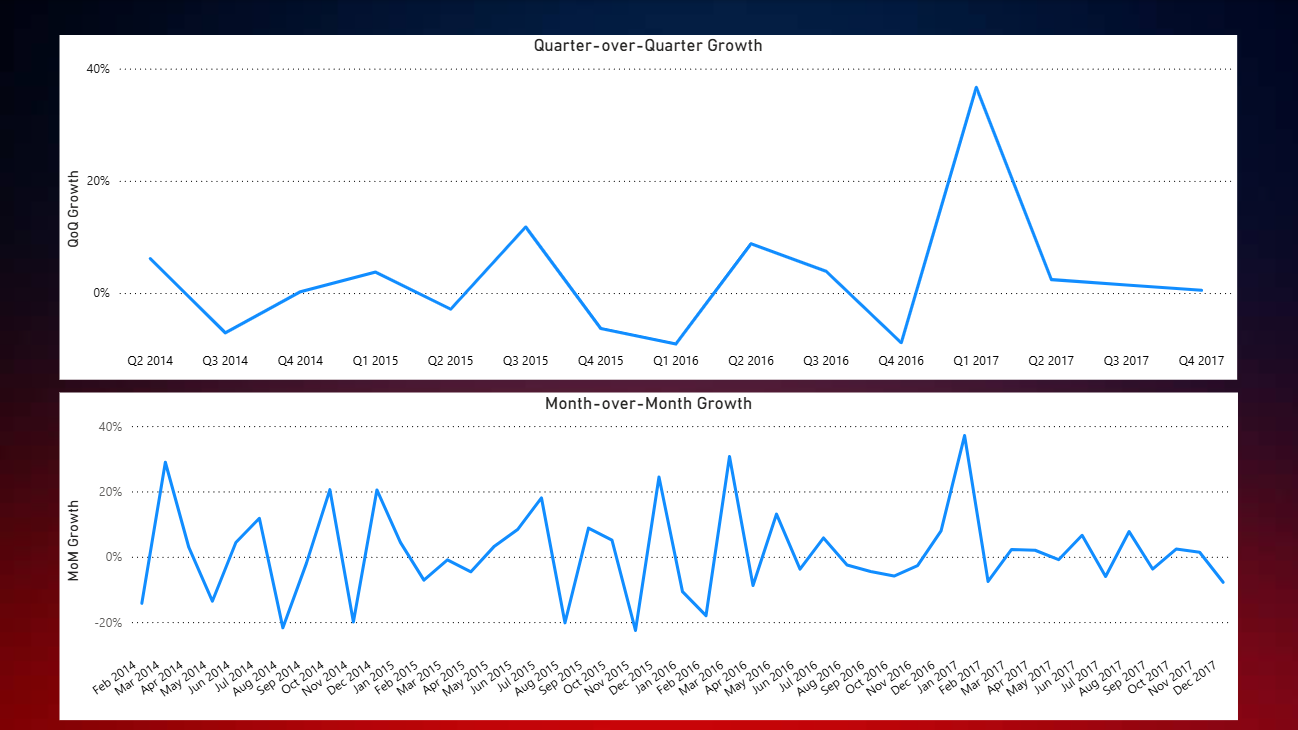

This screenshot's page, from the dashboard's own definition file:
{"tool":"powerbi","page":{"name":"MoM and QoQ Growth","canvas":[1280,720],"ordinal":3},"visuals":[{"type":"lineChart","title":"Month-over-Month Growth","fields":{"Category":["CalendarMaster.Month-Year"],"Y":["FactSales.MoM Growth"]},"box":[61.7,385,1156.7,321.7],"z":0},{"type":"lineChart","title":"Quarter-over-Quarter Growth","fields":{"Category":["CalendarMaster.Quarter-Year"],"Y":["FactSales.QoQ Growth"]},"box":[61.4,34.3,1155.7,338.6],"z":1000}]}

Visuals, with their boxes in screenshot pixels (x1, y1, x2, y2), scaled from the page's 1280x720 canvas onto the 1298x730 screenshot:
"Month-over-Month Growth" lineChart: bbox=(63, 390, 1236, 717)
"Quarter-over-Quarter Growth" lineChart: bbox=(62, 35, 1234, 378)
